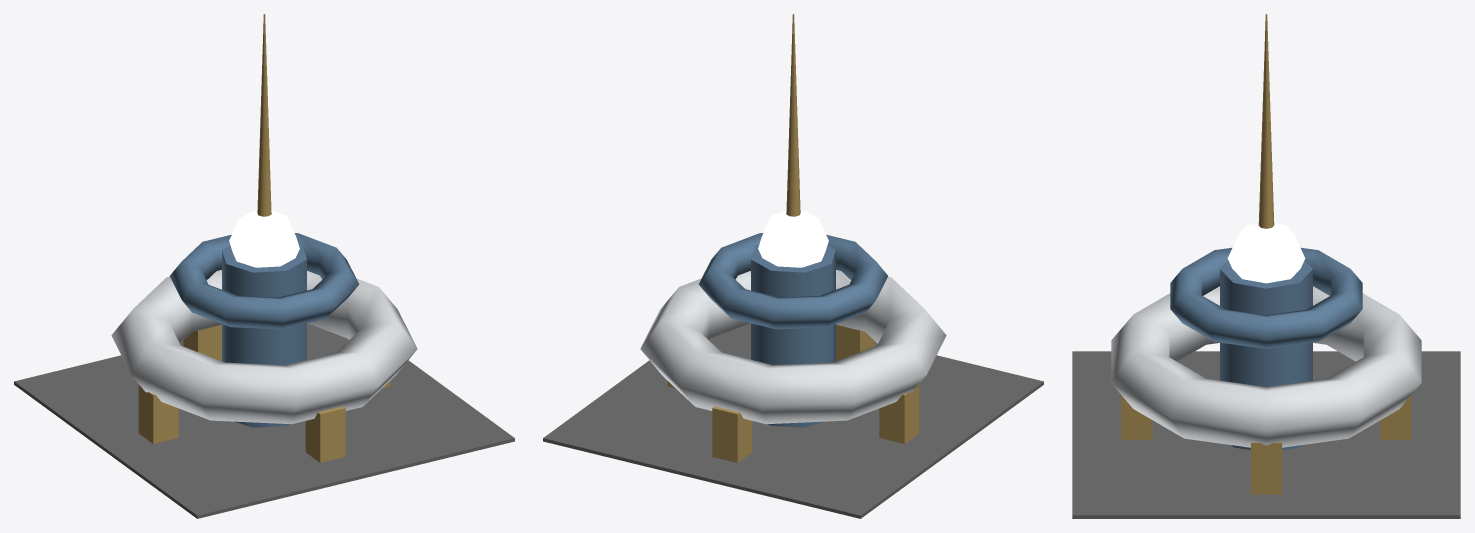
File: bld_special_power_plant_a10_lod1.glb
The picture shows the model from 3 angles, left to right: view 1: azimuth 30°, elevation 25°; view 2: azimuth 150°, elevation 25°; view 3: azimuth 270°, elevation 25°; orthographic projection. The views are drawn at different scales.
Visible parts, largest first — view 1: body; view 2: body; view 3: body.
Boxes of the visible parts, x1=… form: body: x1=14, y1=14, x2=514, y2=518; body: x1=543, y1=14, x2=1043, y2=518; body: x1=1072, y1=14, x2=1460, y2=518.
Bounding box in the file's own units: 15 × 18 × 15.
